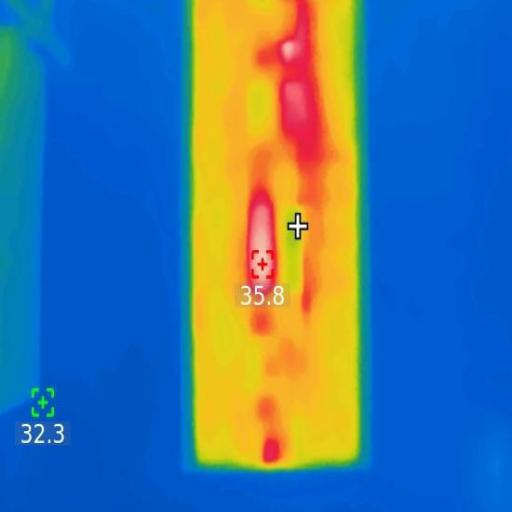hotspot: (280, 10, 327, 164), (244, 193, 277, 305), (258, 400, 280, 466)
